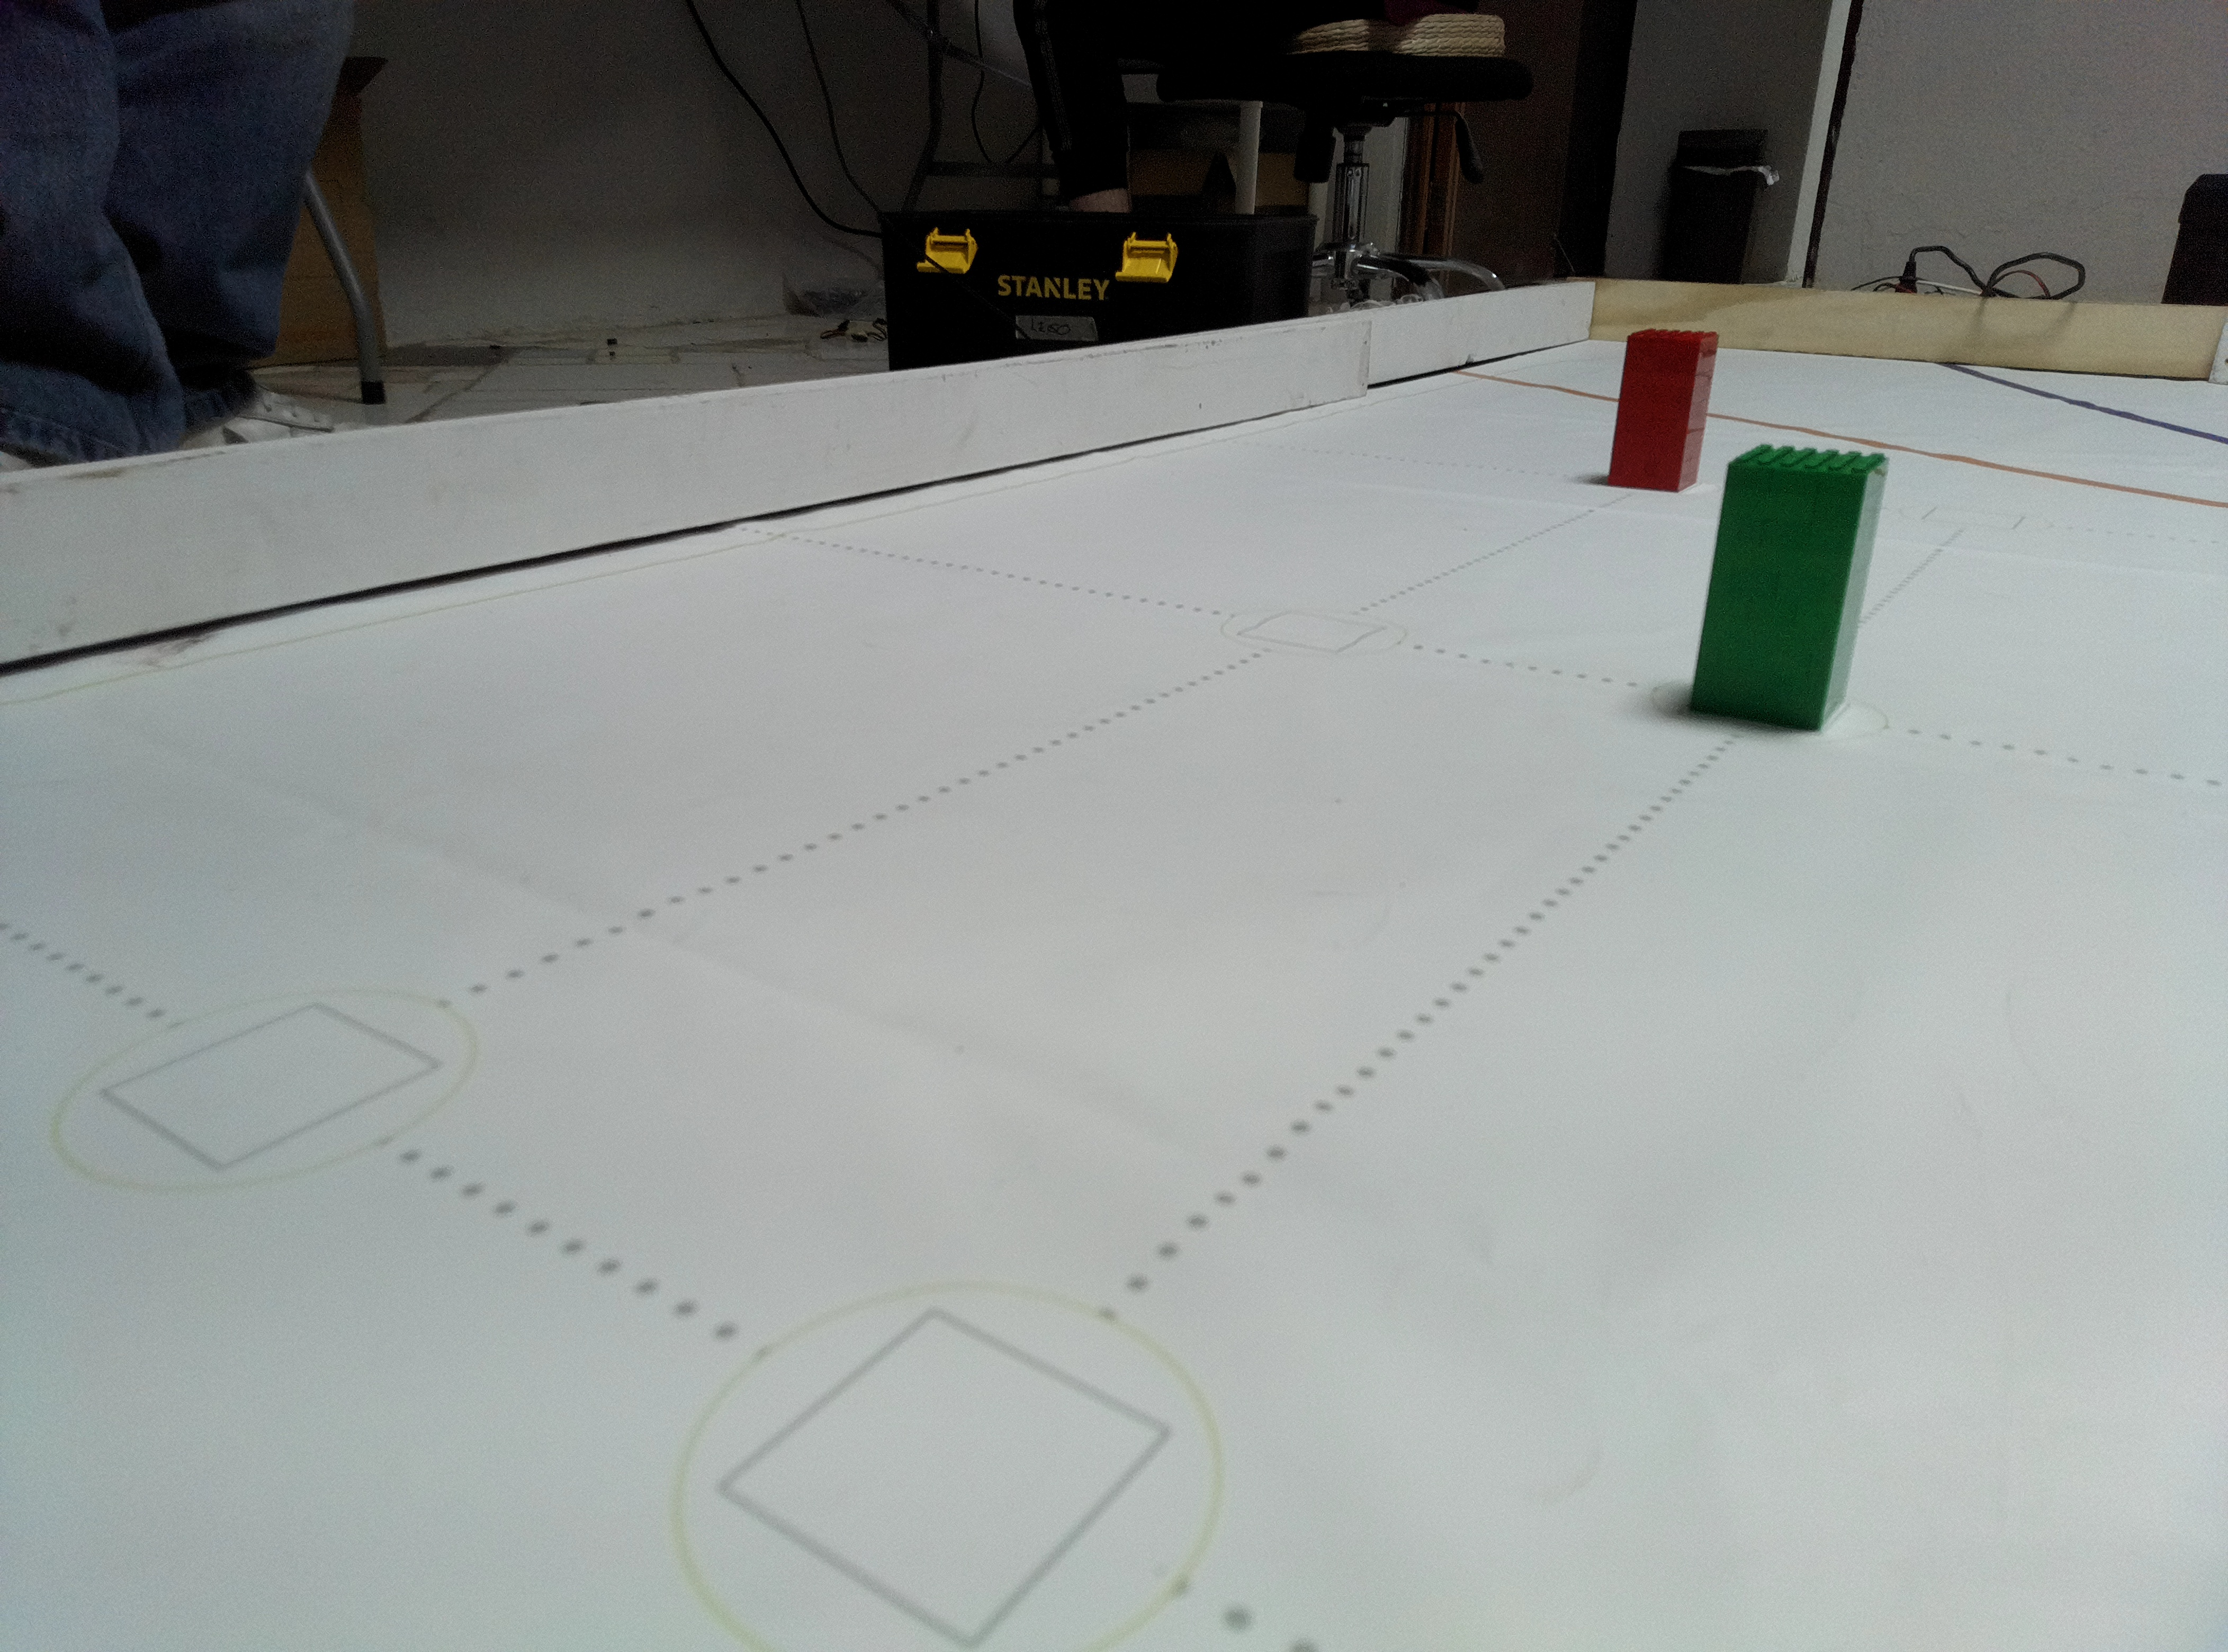greenbox: (1685, 444, 1895, 732)
redbox: (1605, 330, 1721, 493)
